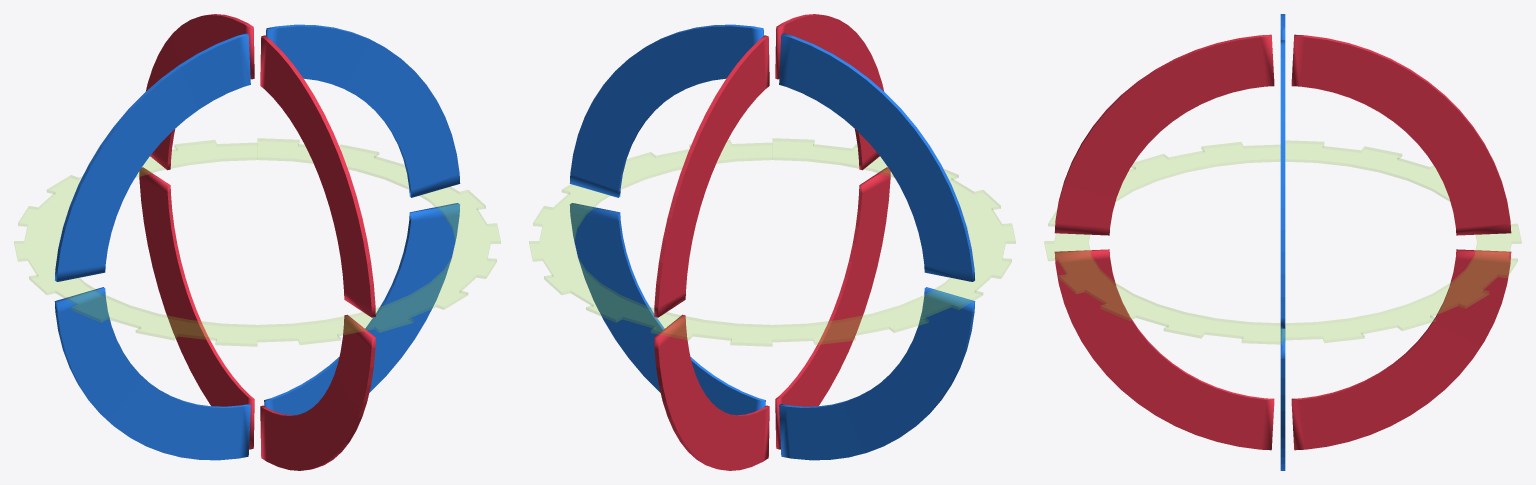
The model's file is Rotation.fbx.
The picture shows the model from 3 angles, left to right: view 1: azimuth 30°, elevation 25°; view 2: azimuth 150°, elevation 25°; view 3: azimuth 270°, elevation 25°; orthographic projection.
Visible parts, largest first — view 1: XY, YZ, XZ; view 2: XY, YZ, XZ; view 3: YZ, XZ, XY.
Boxes of the visible parts, x1,y1,x2,y2 form: XY: (54,24,460,460); YZ: (139,14,375,470); XZ: (14,138,500,346); XY: (569,24,975,460); YZ: (654,14,890,470); XZ: (529,138,1015,346); YZ: (1054,34,1511,450); XZ: (1044,140,1521,344); XY: (1280,14,1285,470).
Size of the model in its own units: 313 by 299 by 313.
